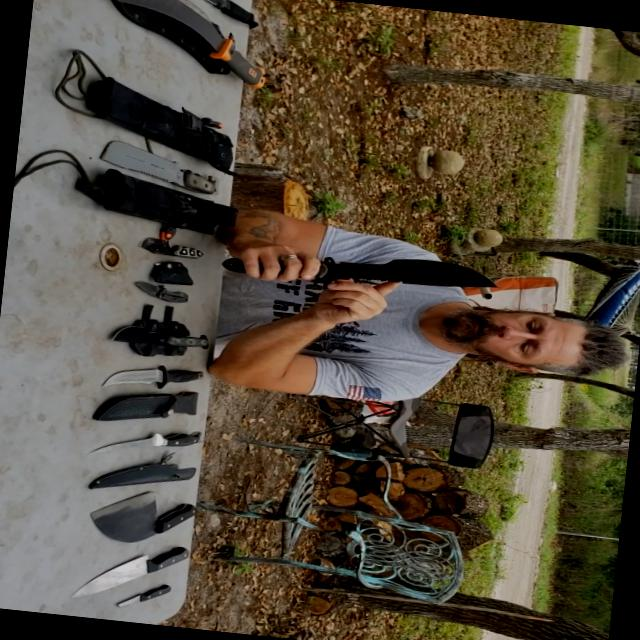knife: (250, 223, 497, 310), (83, 0, 289, 94), (84, 121, 228, 203), (61, 528, 193, 610), (86, 486, 210, 550), (85, 414, 211, 472), (99, 356, 224, 403), (105, 318, 219, 356), (120, 230, 223, 266), (178, 0, 268, 35), (104, 576, 172, 616), (128, 278, 204, 306)
